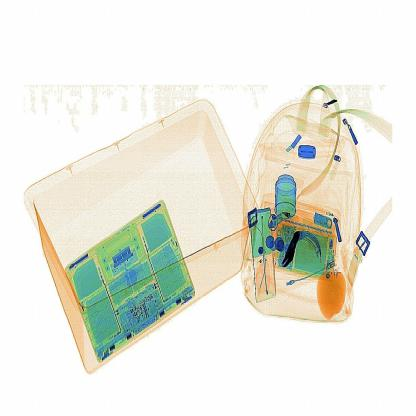knife: (280, 225, 309, 271)
